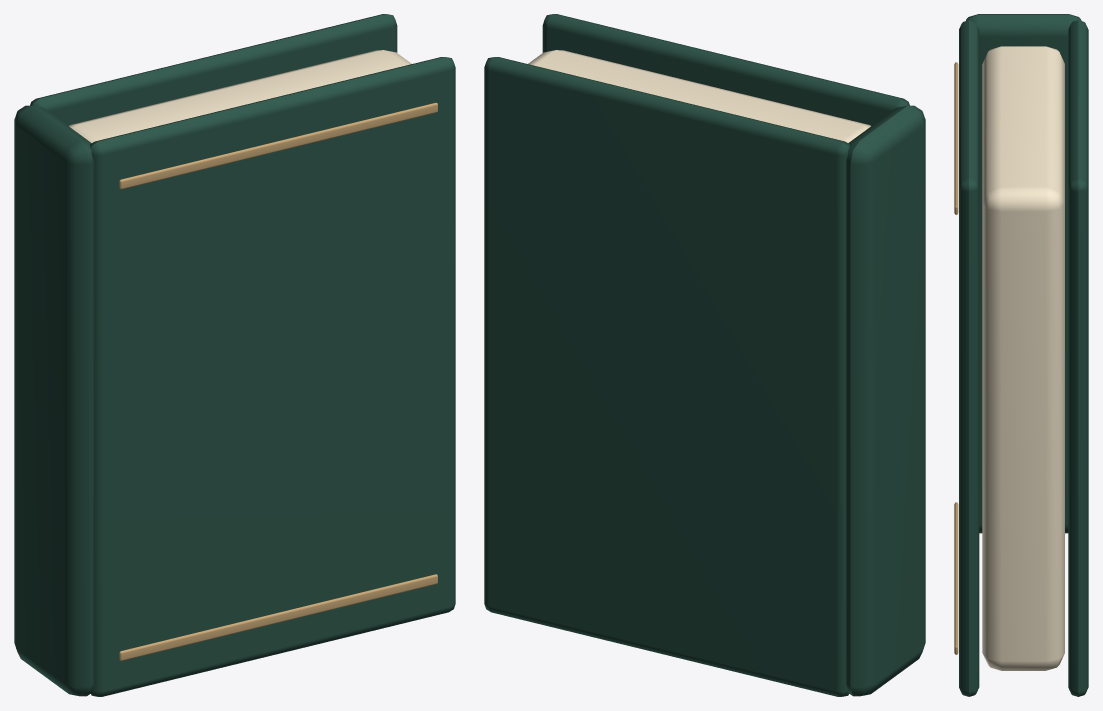
The model's file is little-light-book.glb.
The picture shows the model from 3 angles, left to right: view 1: azimuth 30°, elevation 25°; view 2: azimuth 150°, elevation 25°; view 3: azimuth 270°, elevation 25°; orthographic projection. The views are drawn at different scales.
Visible parts, largest first — view 1: Front board, Spine, Back board, Page block, Inlaid bottom line, Inlaid top line; view 2: Back board, Spine, Front board, Page block; view 3: Page block, Front board, Back board, Spine, Inlaid top line, Inlaid bottom line.
Part boxes in pixels (x1=…): Front board: x1=90, y1=57, x2=455, y2=696; Spine: x1=14, y1=105, x2=93, y2=696; Back board: x1=30, y1=14, x2=397, y2=125; Page block: x1=69, y1=50, x2=411, y2=142; Inlaid bottom line: x1=119, y1=574, x2=437, y2=660; Inlaid top line: x1=119, y1=102, x2=437, y2=189; Back board: x1=484, y1=57, x2=849, y2=696; Spine: x1=846, y1=105, x2=925, y2=696; Front board: x1=542, y1=14, x2=909, y2=125; Page block: x1=528, y1=50, x2=870, y2=142; Page block: x1=982, y1=46, x2=1064, y2=670; Front board: x1=959, y1=20, x2=979, y2=696; Back board: x1=1068, y1=20, x2=1088, y2=696; Spine: x1=966, y1=14, x2=1081, y2=533; Inlaid top line: x1=954, y1=62, x2=958, y2=214; Inlaid bottom line: x1=954, y1=502, x2=958, y2=654.
Bounding box in the file's own units: 0.3265 × 0.45 × 0.1055.
